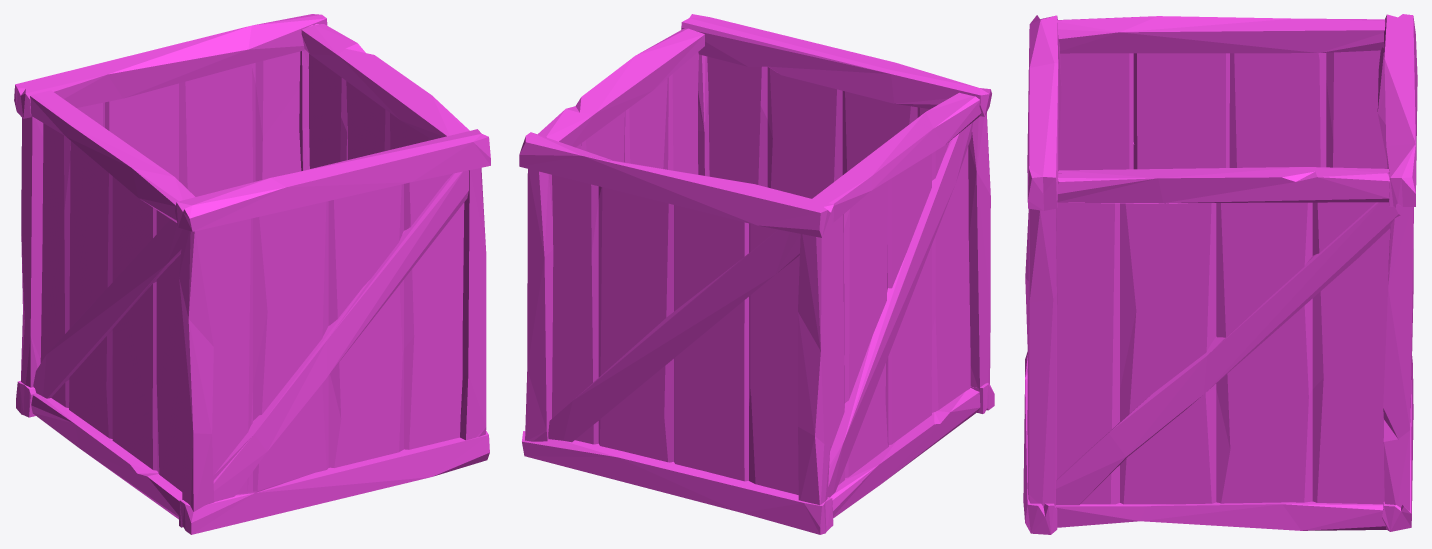
Rendered from SM_Box_Open_Fantasy.fbx.
3 renders of one model, left to right at view 1: azimuth 30°, elevation 25°; view 2: azimuth 150°, elevation 25°; view 3: azimuth 270°, elevation 25°, orthographic. The views are drawn at different scales.
Parts seen in each view (by area): view 1: SM_Box_Open_Fantasy; view 2: SM_Box_Open_Fantasy; view 3: SM_Box_Open_Fantasy.
Part boxes in pixels (<box>): SM_Box_Open_Fantasy: <box>14,14,490,534</box>; SM_Box_Open_Fantasy: <box>519,14,994,534</box>; SM_Box_Open_Fantasy: <box>1023,14,1417,534</box>.
Size of the model in its own units: 0.9908 by 1.02 by 1.
